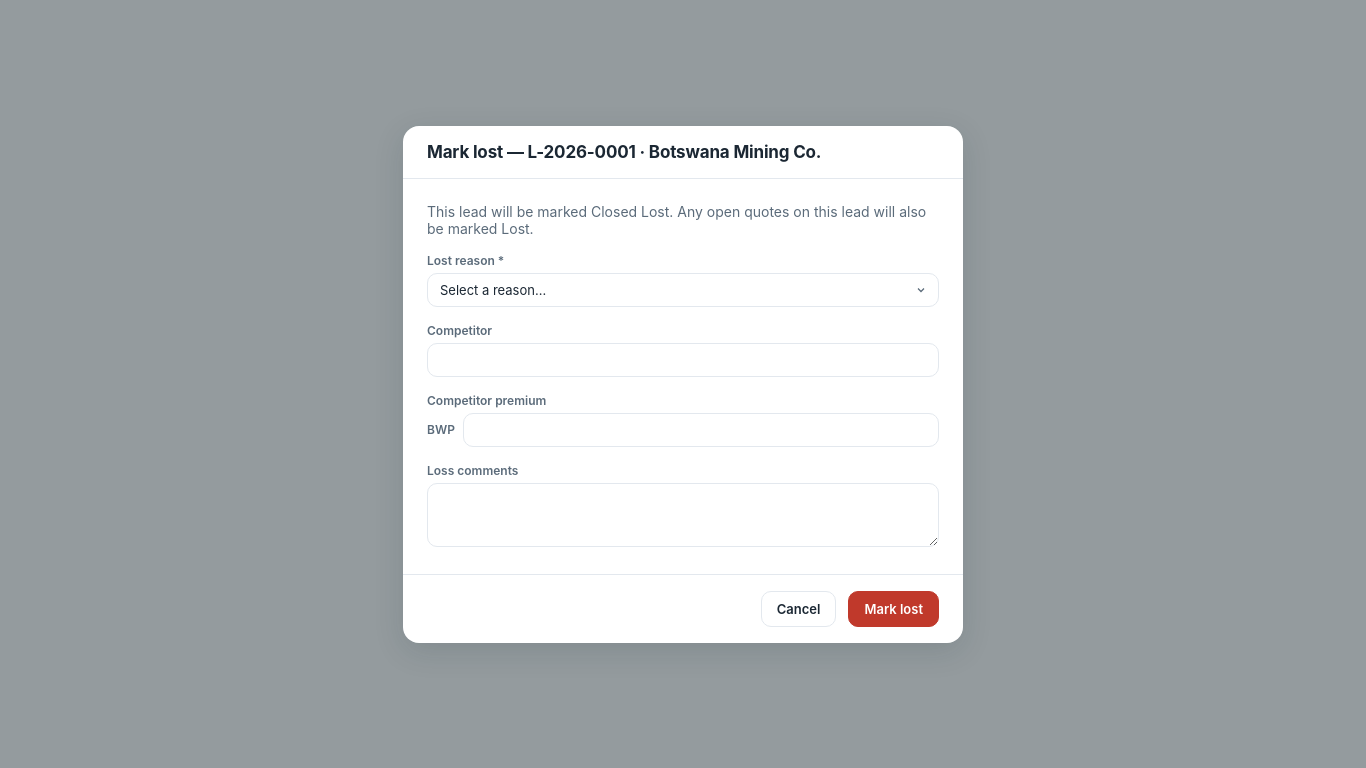
MarkLostDialog › click_WhenReasonOtherSelectedWithoutComments_ShouldShowInlineErrorAndNotConfirm
Select "Other" in the dropdown with test id "lost-reason-select": (683, 290) [427,272,939,306]
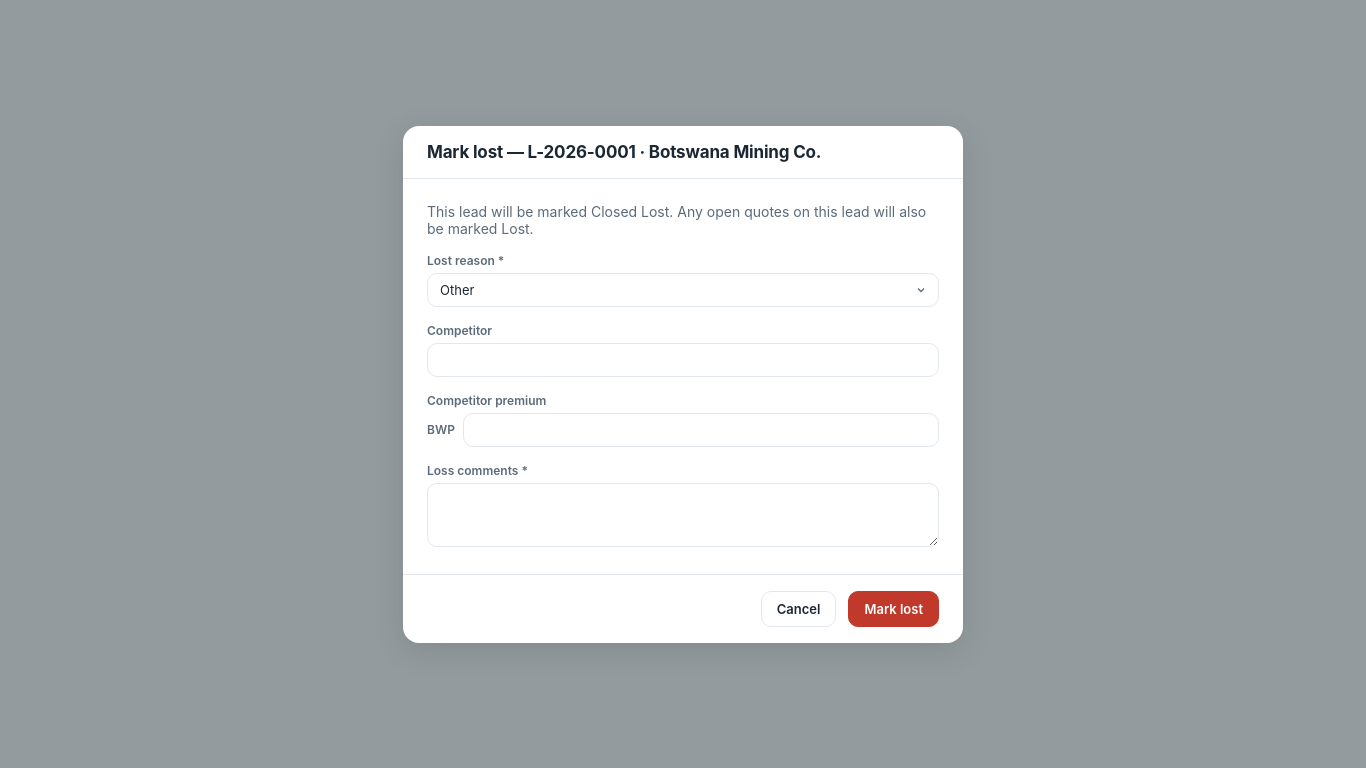
Click the button with test id "dialog-danger-button": (894, 608) [848,590,939,626]
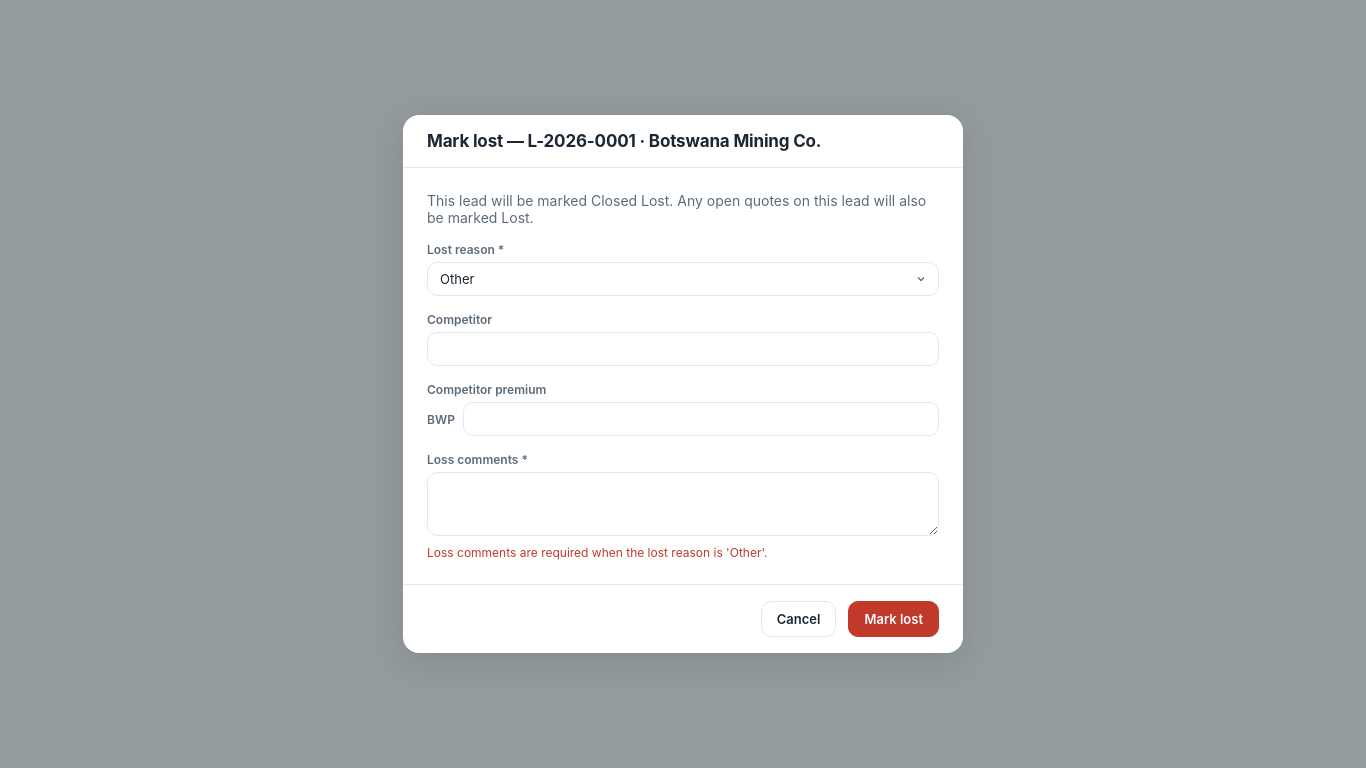
Now the message with test id "field-error-loss-comments" shows "required when the lost reason is 'Other'", box [427,545,768,560]
